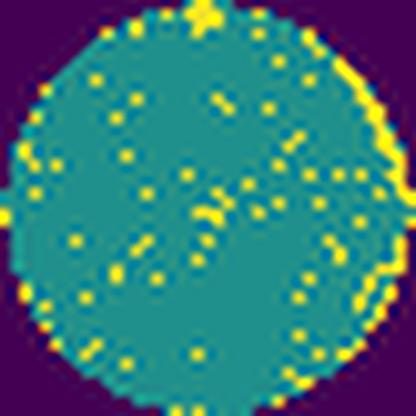Edge-Loc: (334, 60, 416, 209), (347, 233, 415, 317), (180, 0, 228, 40)
